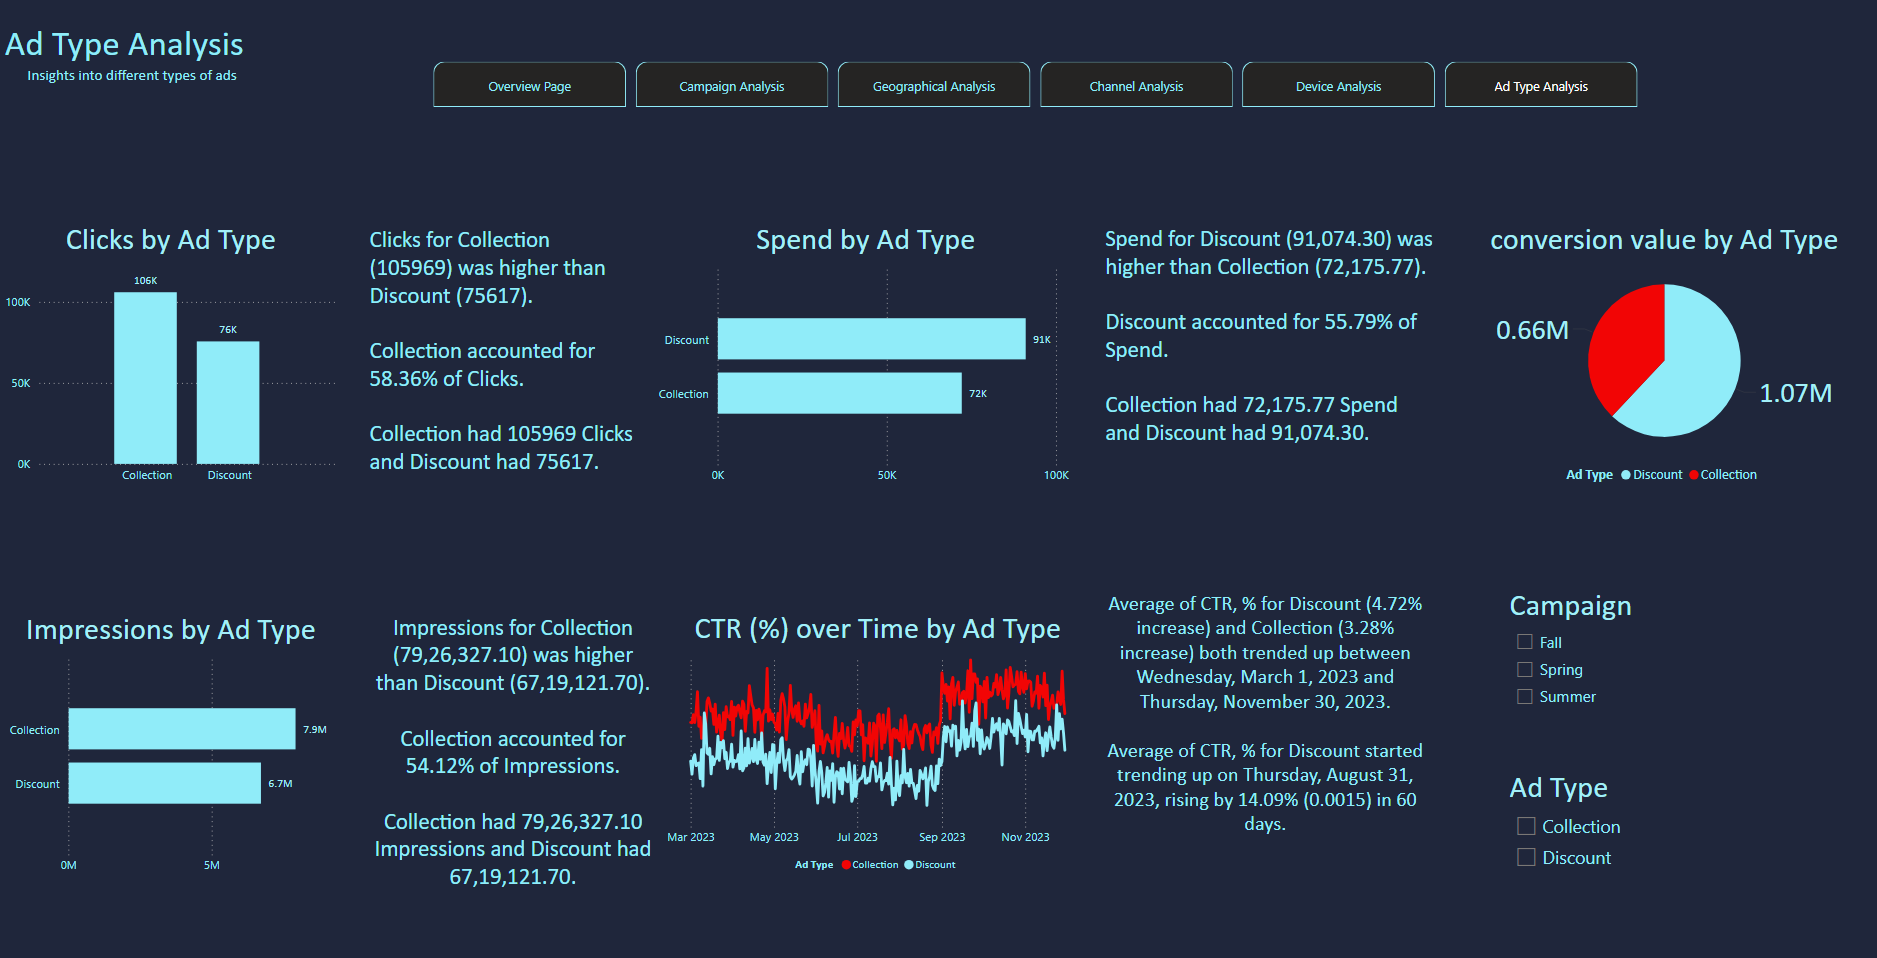

The page's visual inventory and layout, read from the dashboard file:
{"tool":"powerbi","page":{"name":"Ad Type Analysis","canvas":[1980,1020],"ordinal":5},"visuals":[{"type":"clusteredBarChart","fields":{"Y":["Sum(data.Impressions)"],"Category":["data.Ad"]},"box":[0,648.8,360,288],"z":0},{"type":"clusteredColumnChart","fields":{"Y":["Sum(data.Clicks)"],"Category":["data.Ad Type"]},"box":[0,238.4,360,288],"z":1000},{"type":"textbox","box":[384,240,288,312],"z":2000},{"type":"textbox","box":[384,648,312,336],"z":3000},{"type":"clusteredBarChart","fields":{"Y":["Sum(data.Spend, GBP)"],"Category":["data.Ad Type"]},"box":[684,238.4,456,288],"z":4000},{"type":"lineChart","title":"CTR (%) over Time by Ad Type","fields":{"Category":["data.Date.Variation.Date Hierarchy.Year","data.Date.Variation.Date Hierarchy.Quarter","data.Date.Variation.Date Hierarchy.Month","data.Date.Variation.Date Hierarchy.Day"],"Y":["Avg(data.CTR, %)"],"Series":["data.Ad Type"]},"box":[696,648,456,288],"z":5000},{"type":"textbox","box":[1158,238.4,360,288],"z":6000},{"type":"textbox","box":[1152,624,360,288],"z":7000},{"type":"pieChart","fields":{"Y":["Sum(data.Total conversion value, GBP)"],"Category":["data.Ad Type"]},"box":[1536,238.4,432,288],"z":8000},{"type":"slicer","title":"Campaign","fields":{"Values":["data.Campaign"]},"box":[1584,624,336,144],"z":9000},{"type":"slicer","title":"Ad Type","fields":{"Values":["data.Ad Type"]},"box":[1584,816,336,120],"z":10000},{"type":"textbox","box":[0,24,360,72],"z":11000},{"type":"textbox","box":[24,72,264,48],"z":12000},{"type":"pageNavigator","box":[456,72,1272,48],"z":13000}]}

Visuals, with their boxes in screenshot pixels (x1, y1, x2, y2), scaled from the page's 1980x1020 canvas onto the 1877x958 screenshot:
clusteredBarChart - Sum(data.Impressions) x data.Ad: 0,609,341,880
clusteredColumnChart - Sum(data.Clicks) x data.Ad Type: 0,224,341,494
textbox: 364,225,637,518
textbox: 364,609,660,924
clusteredBarChart - Sum(data.Spend, GBP) x data.Ad Type: 648,224,1081,494
"CTR (%) over Time by Ad Type" lineChart: 660,609,1092,879
textbox: 1098,224,1439,494
textbox: 1092,586,1433,857
pieChart - Sum(data.Total conversion value, GBP) x data.Ad Type: 1456,224,1866,494
"Campaign" slicer: 1502,586,1820,721
"Ad Type" slicer: 1502,766,1820,879
textbox: 0,23,341,90
textbox: 23,68,273,113
pageNavigator: 432,68,1638,113
